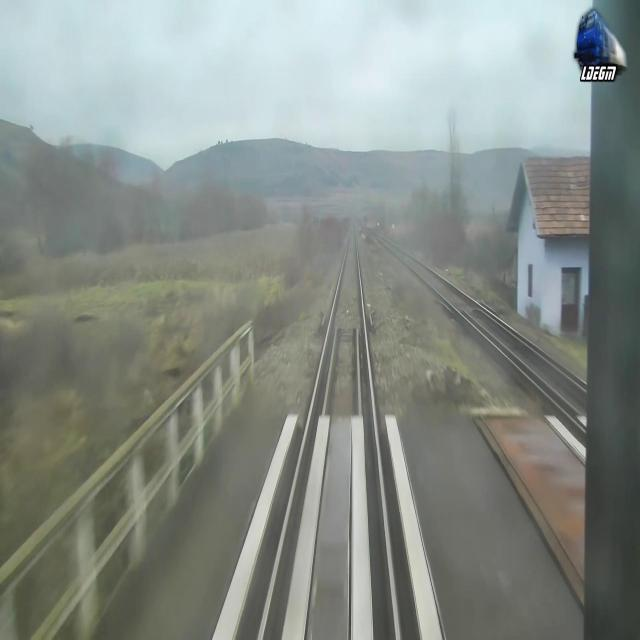rail-track: (372, 231, 640, 481), (261, 231, 395, 639)
